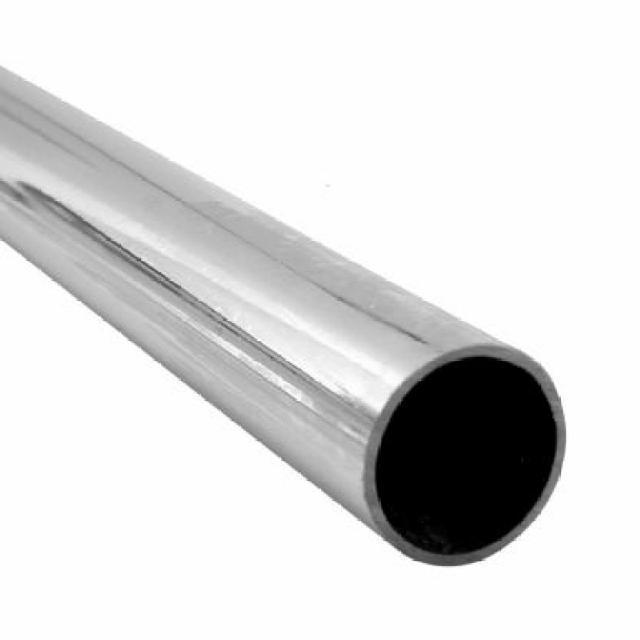pipe: (354, 339, 573, 573)
